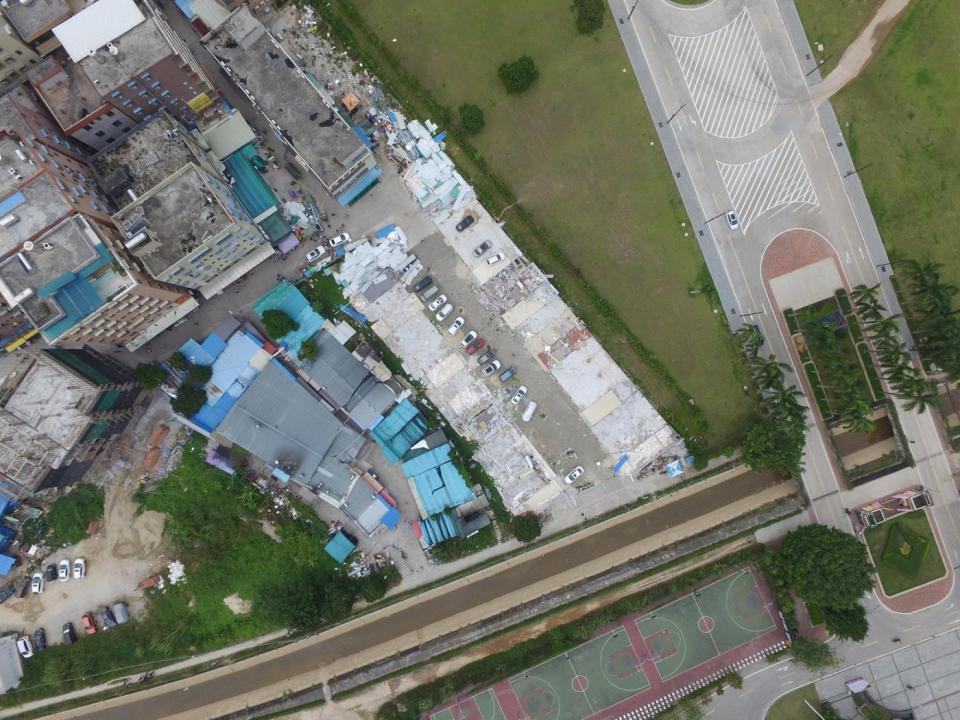car: (304, 244, 326, 264), (564, 463, 584, 484), (16, 636, 34, 658), (113, 602, 129, 625), (466, 337, 485, 356), (472, 239, 492, 257), (81, 612, 97, 634), (100, 607, 116, 629), (328, 232, 351, 247), (446, 316, 463, 336), (33, 627, 47, 651), (31, 571, 45, 595), (413, 275, 434, 291), (435, 303, 453, 321), (429, 294, 447, 312), (482, 358, 501, 375), (72, 558, 87, 579), (58, 559, 72, 581), (460, 330, 477, 348), (455, 215, 474, 231), (522, 401, 537, 421), (512, 386, 528, 404), (0, 585, 14, 604), (487, 252, 506, 266), (725, 210, 738, 229), (44, 564, 57, 582)
truck: (420, 285, 439, 302), (284, 162, 300, 180)
van: (14, 575, 30, 598), (62, 622, 77, 645), (477, 348, 497, 364), (499, 366, 517, 382)
